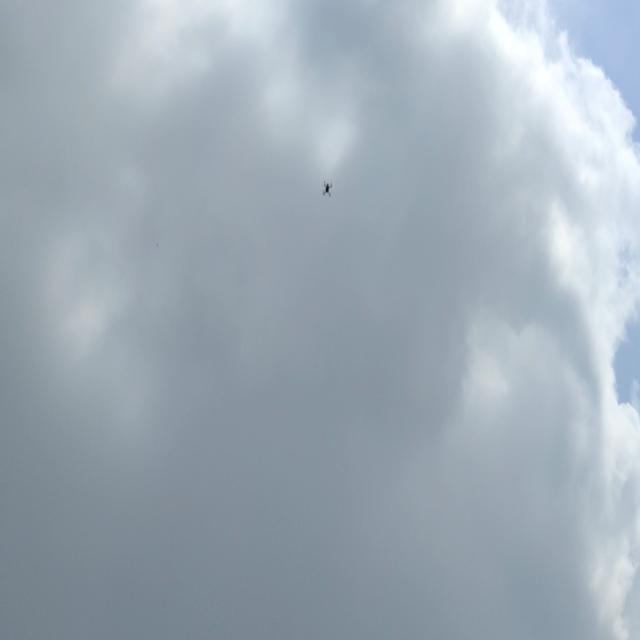drone: (321, 178, 335, 201)
